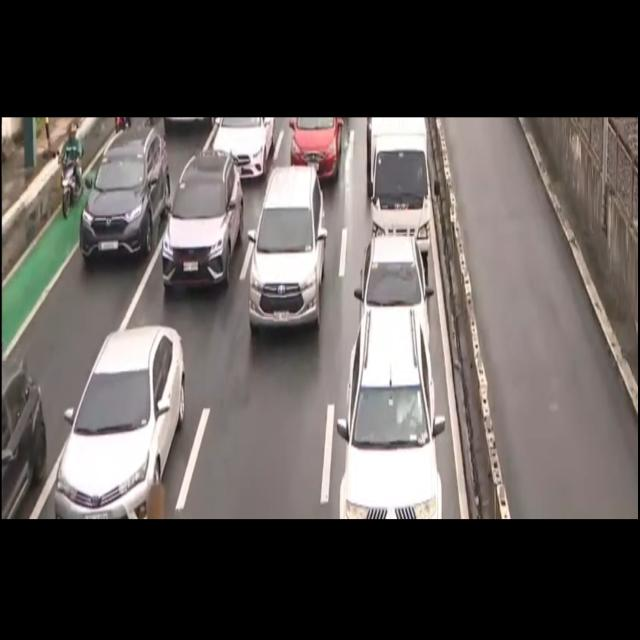Motorcycle: (54, 116, 84, 228)
SUV: (340, 313, 445, 517), (251, 176, 323, 340), (78, 127, 170, 255), (157, 155, 241, 286), (0, 359, 47, 517)
Sedan: (55, 333, 187, 511), (353, 236, 429, 346), (216, 116, 271, 178), (292, 119, 343, 179)
Truck: (368, 119, 432, 254)
